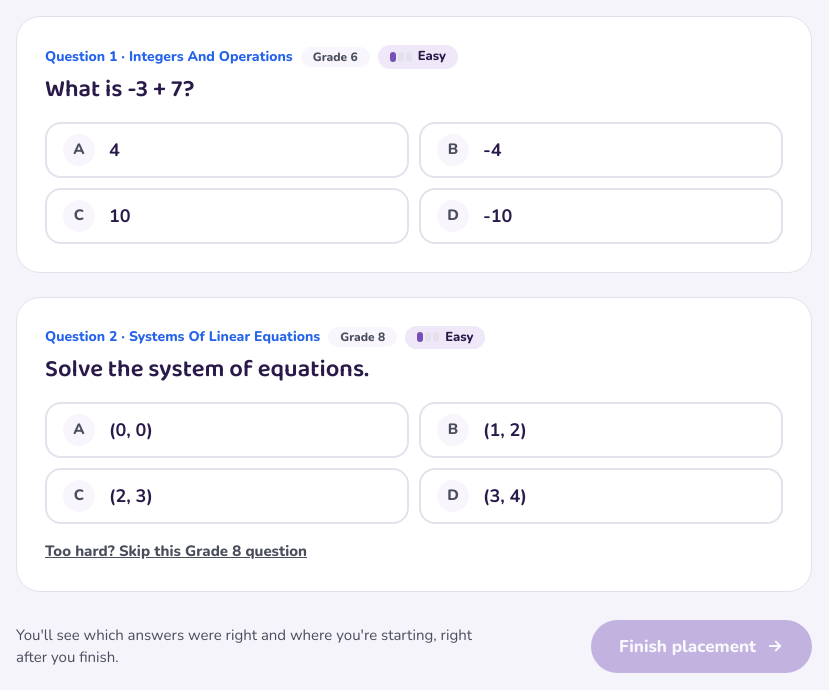
Test: PlacementFlow skip button › removes the question entirely when skip returns no replacement
(page scrolled)
Expected: the heading "Solve the system of equations." is shown, [45,350,369,389]
Click the button "Too hard? Skip this Grade 8 question" at (176, 551), box [45,540,307,562]
(page scrolled)
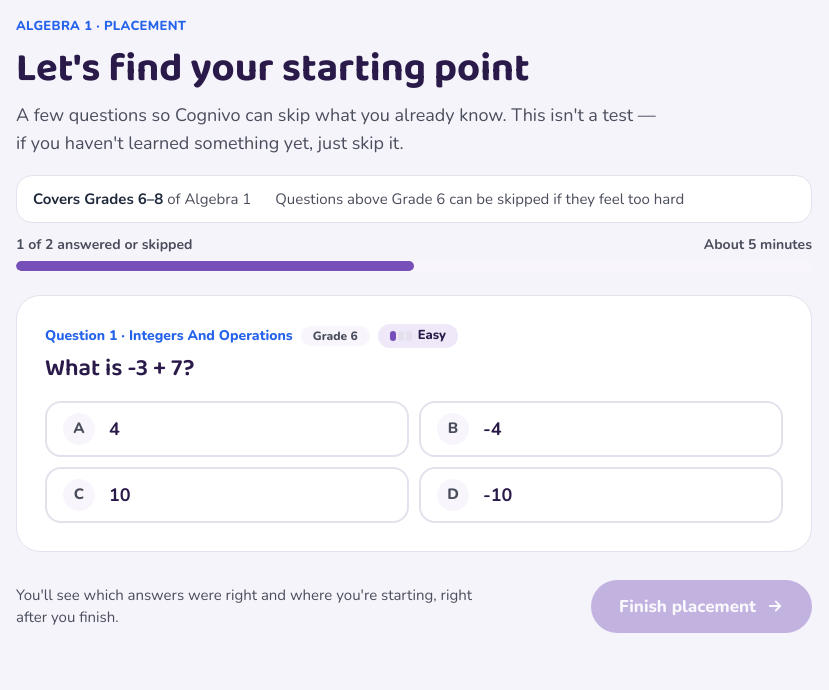
Expected: the heading "What is -3 + 7?" is shown, [45,348,195,388]
Expected: the heading "Solve the system of equations." is gone
